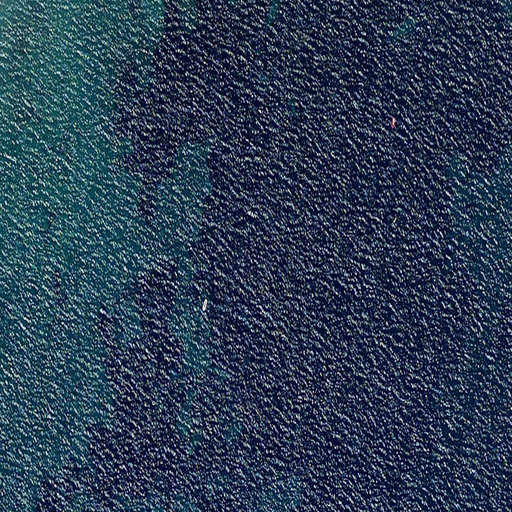ship: (201, 297, 208, 314)
